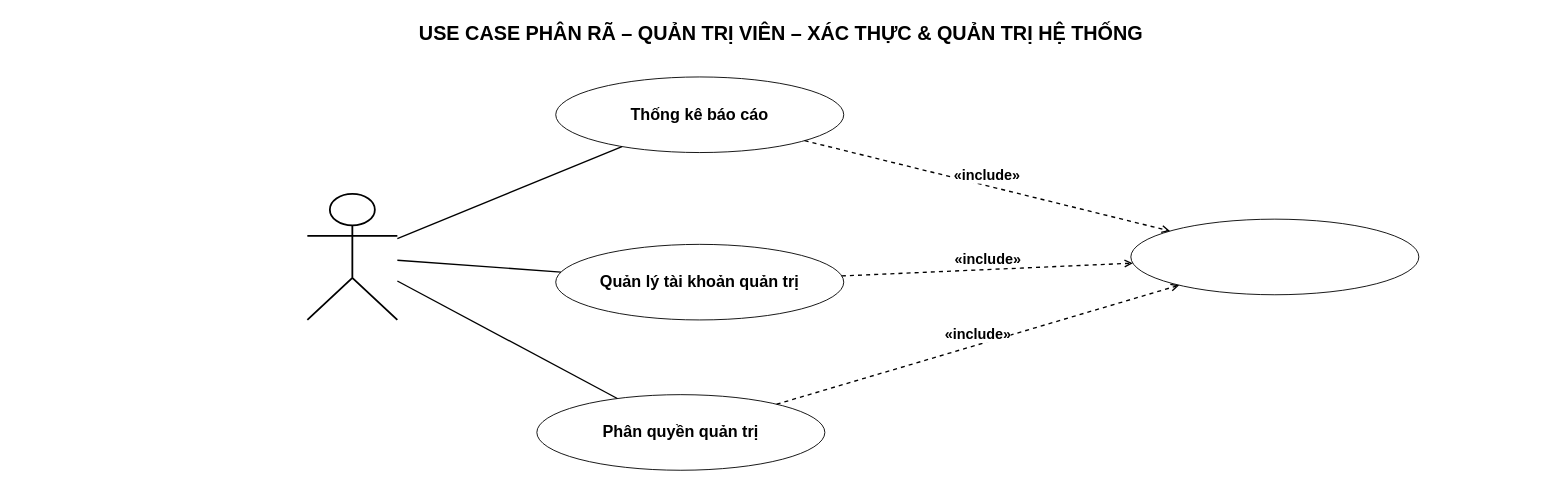
Image size: 1561x486. Some labels were removed from this diagram. Here are the shapes that lost their labels. From the top down, the centre of each, then its label:
(x=352, y=256): Quản trị viên
(x=1274, y=256): Đăng nhập quản trị
